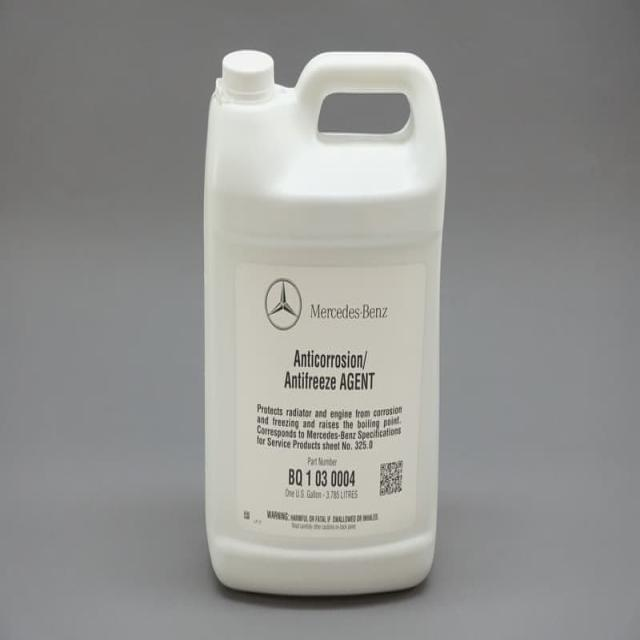coolant: (201, 47, 452, 601)
